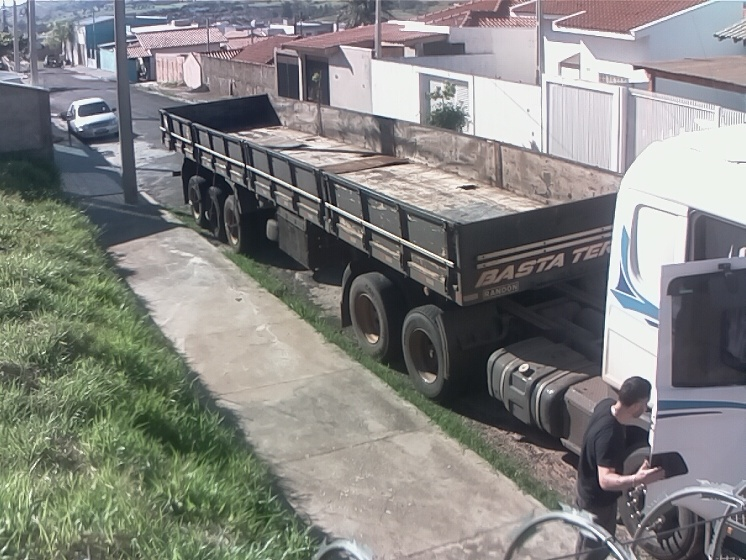person: (570, 375, 665, 560)
